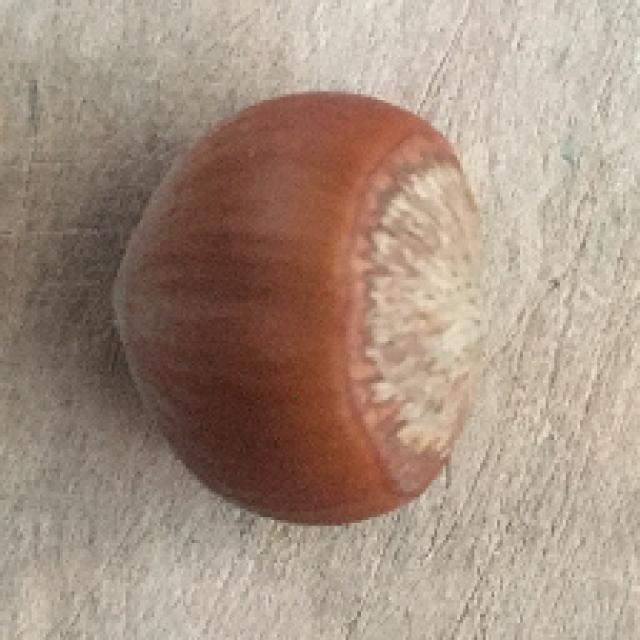qualityHazelnut: (117, 80, 490, 528)
